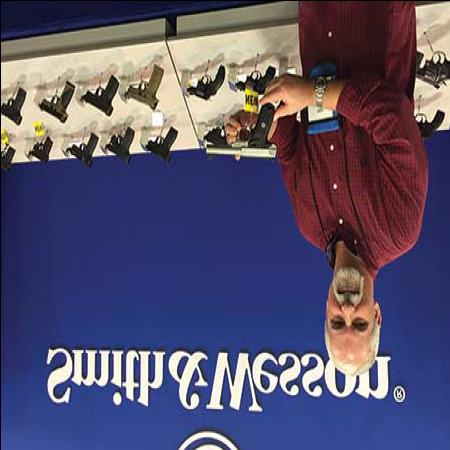Pistol: (201, 108, 274, 164), (116, 67, 171, 111), (412, 42, 448, 96), (80, 78, 122, 122), (35, 80, 76, 124), (183, 63, 224, 105), (140, 124, 176, 162), (411, 110, 444, 150), (233, 67, 274, 98), (63, 131, 98, 166), (102, 124, 132, 164), (25, 140, 51, 164)
